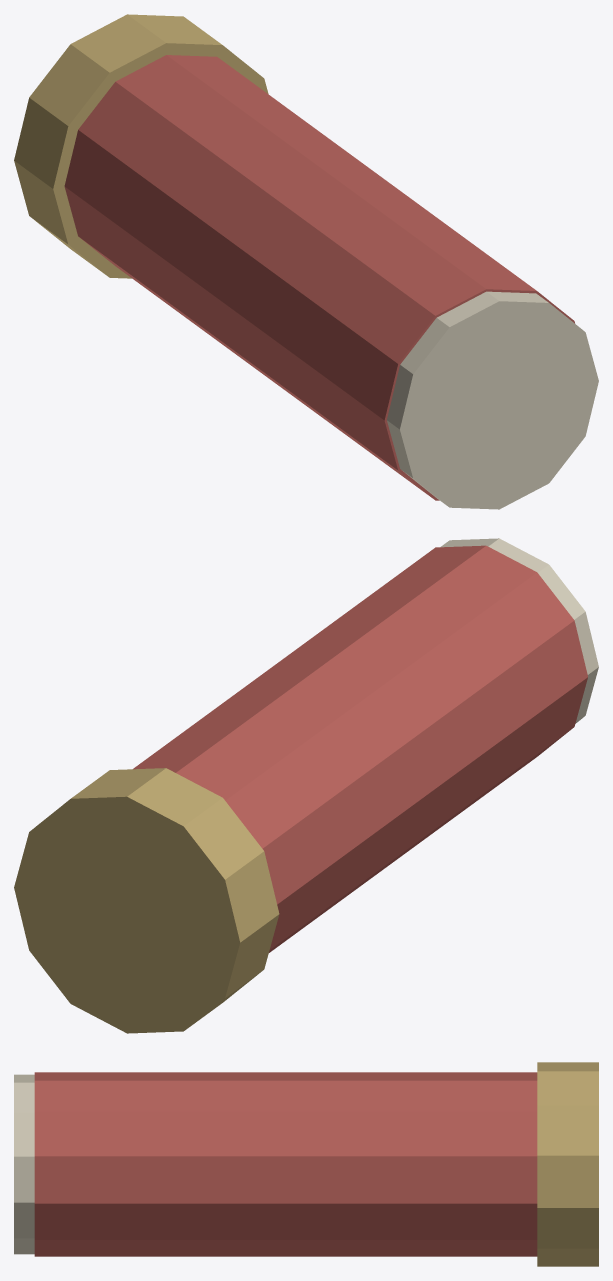
The model's file is ammo_12ga.glb.
3 renders of one model, top to bottom at view 1: azimuth 30°, elevation 25°; view 2: azimuth 150°, elevation 25°; view 3: azimuth 270°, elevation 25°, orthographic. The views are drawn at different scales.
Visible parts, largest first — view 1: 00_shell, 02_crimp, 01_metal_rim; view 2: 00_shell, 01_metal_rim, 02_crimp; view 3: 00_shell, 01_metal_rim, 02_crimp.
Boxes of the visible parts, left/top/right/bottom form: 00_shell: left=64, top=55, right=574, bottom=500; 02_crimp: left=387, top=291, right=598, bottom=509; 01_metal_rim: left=14, top=14, right=268, bottom=278; 00_shell: left=133, top=545, right=587, bottom=952; 01_metal_rim: left=14, top=768, right=279, bottom=1033; 02_crimp: left=440, top=538, right=598, bottom=723; 00_shell: left=34, top=1072, right=537, bottom=1256; 01_metal_rim: left=537, top=1062, right=598, bottom=1266; 02_crimp: left=14, top=1074, right=34, bottom=1254.
Size of the model in its own units: 0.1 by 0.1 by 0.285.
